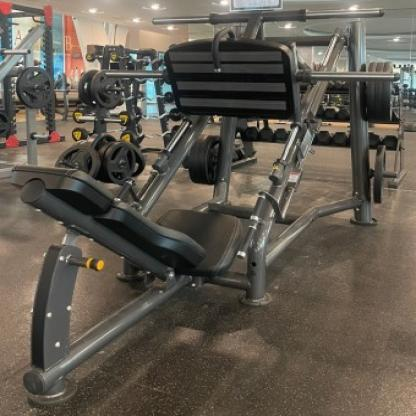leg press: (7, 4, 411, 409)
